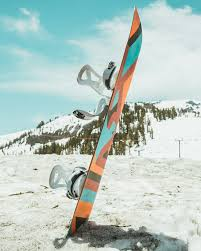snowboard: (64, 5, 145, 240)
